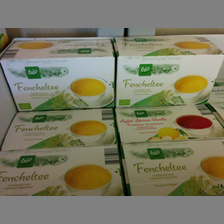tea: (1, 38, 115, 110), (114, 38, 224, 109), (1, 146, 124, 195), (119, 143, 224, 194), (1, 110, 120, 147), (115, 106, 223, 142)
